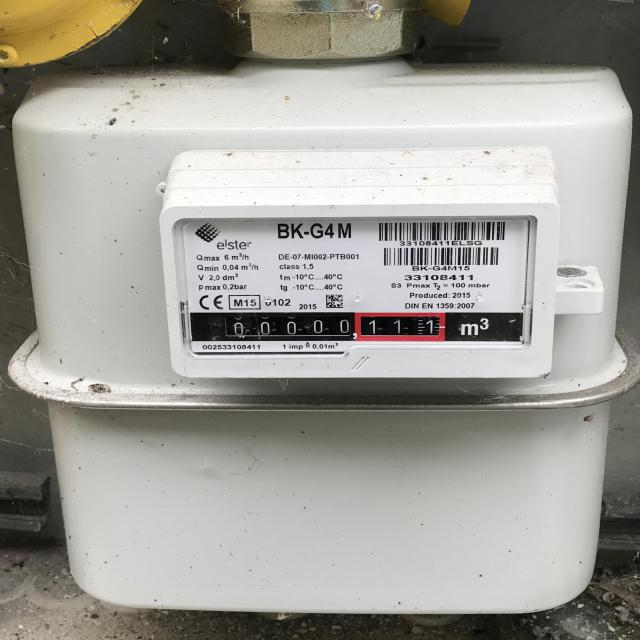gaz_meter: (178, 220, 532, 346)
indication: (223, 311, 448, 342)
